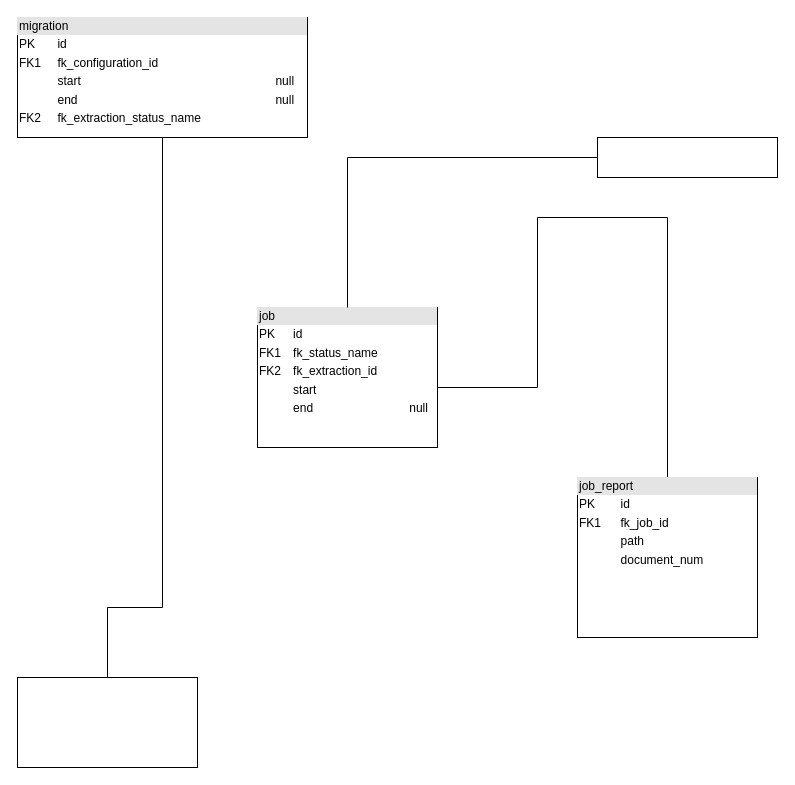
Image size: 795x785. Some labels were removed from this diagram. Here are the shapes that lost their labels. From the top down, the box of each, then its label:
(596, 136, 778, 178): job_status PK name
(16, 676, 198, 768): configuration PK id datework aplication_group
